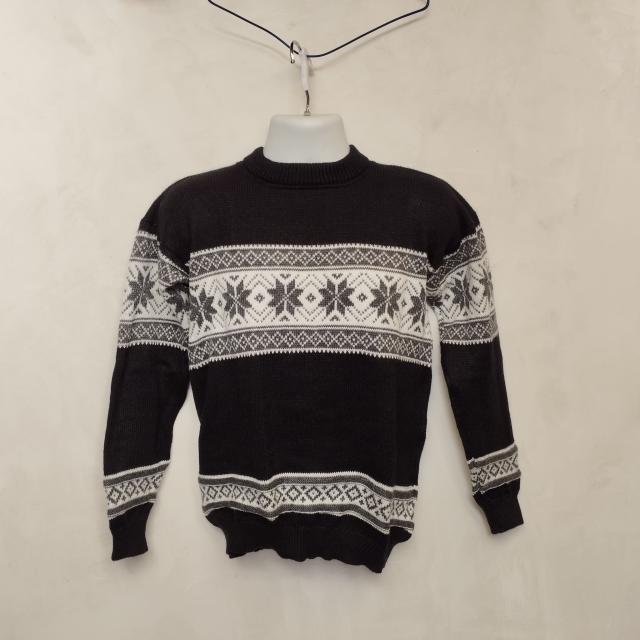Chompa: (102, 120, 524, 573)
